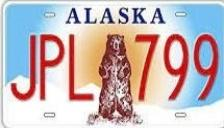7: (134, 31, 161, 104)
9: (192, 32, 223, 101), (164, 32, 190, 103)
J: (9, 32, 38, 103)
L: (67, 33, 96, 102)
P: (38, 32, 66, 102)
